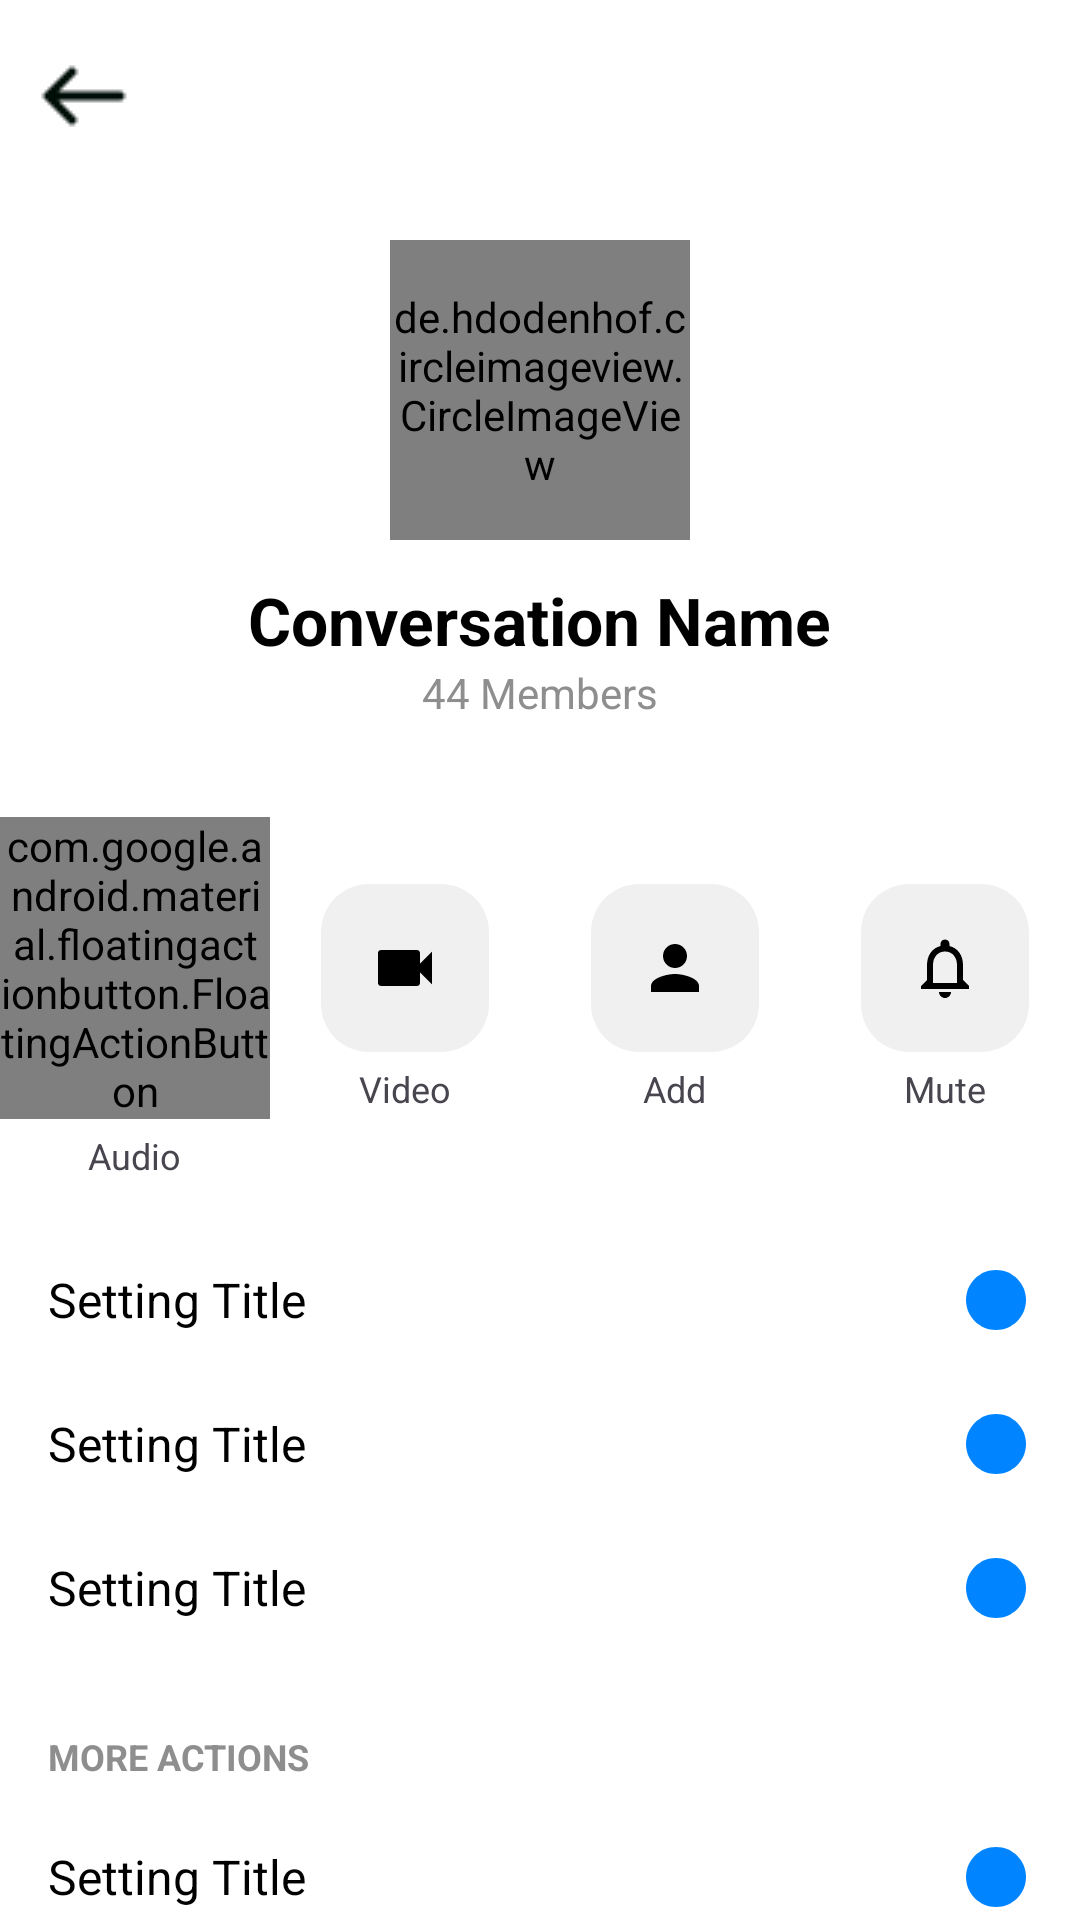

Icons on this 1080*1920 Android screen, each with its box as (x1, y1, x2, y2):
notifications none: (861, 884, 1029, 1052)
person: (651, 944, 699, 992)
